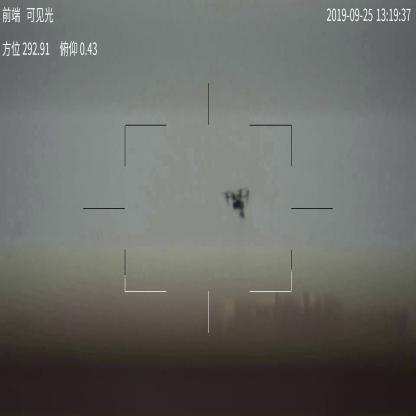uav: (223, 190, 250, 219)
